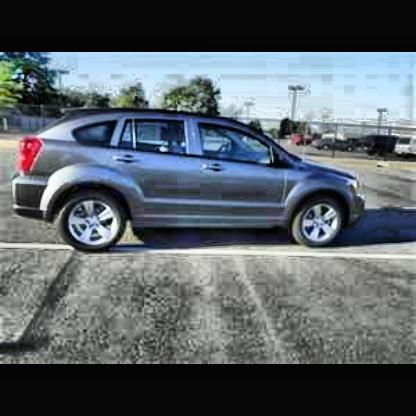Dodge Caliber Wagon 2012: (12, 106, 369, 255)
